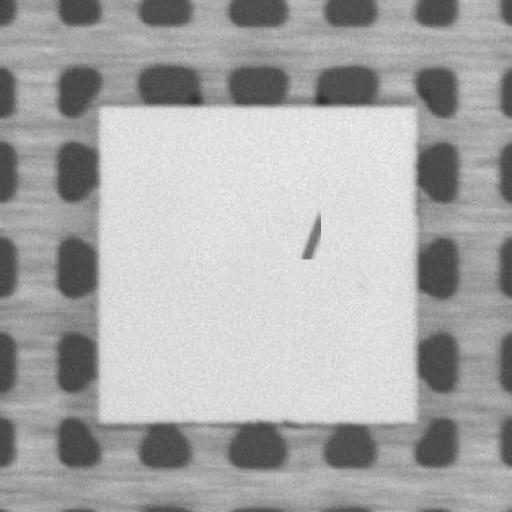DIE_INK: (298, 208, 322, 261)
